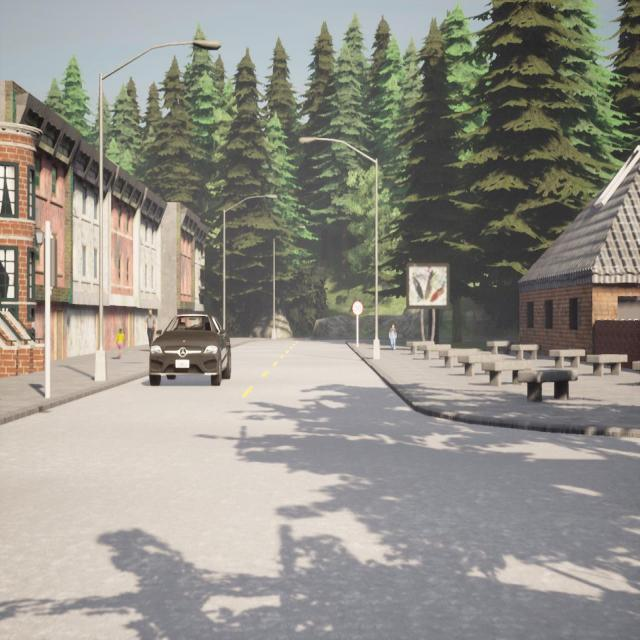Pedestrian: (145, 308, 157, 351), (116, 327, 127, 361), (388, 321, 398, 351)
Traffic_Signs: (351, 301, 363, 315)
Vehicle: (149, 312, 231, 385)
traffic_light: (44, 238, 58, 288)
